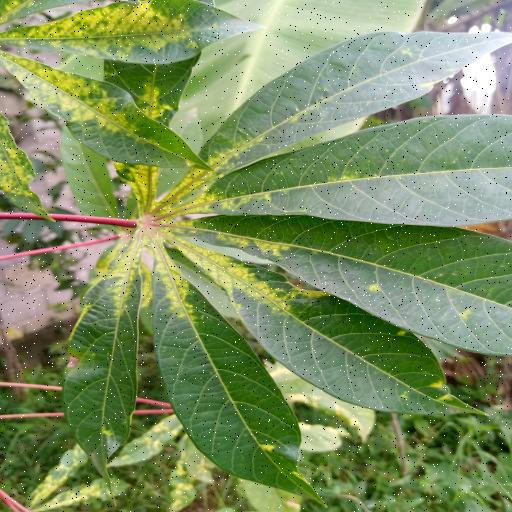Cassava_Mosaic: (57, 0, 512, 504), (0, 0, 215, 217)
